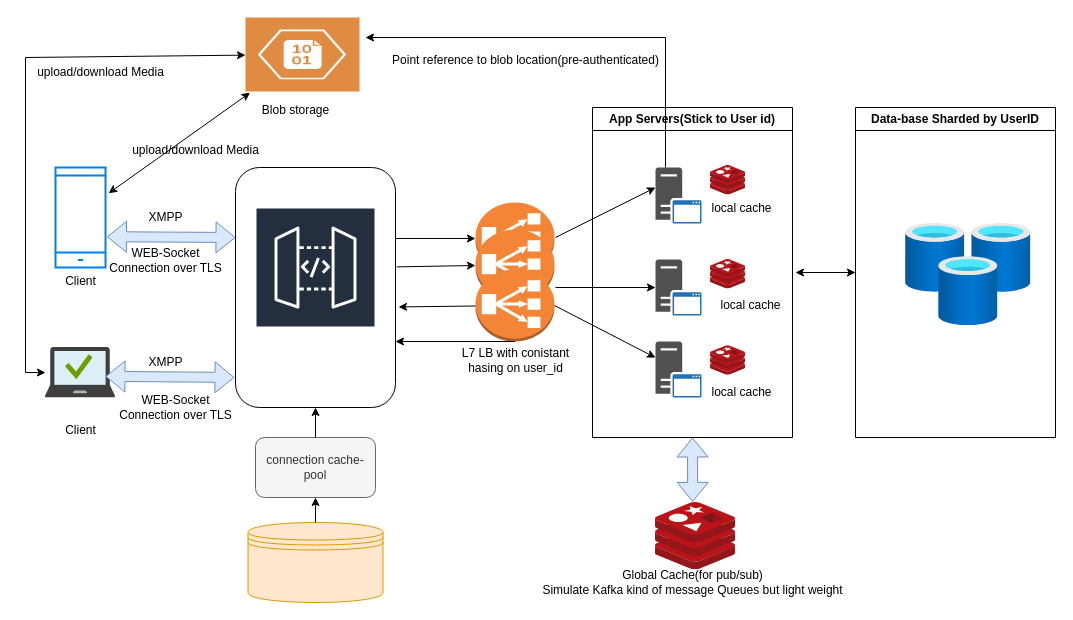
Some shapes in this 1073 by 620 pixel diagram are drawn without their labels. The shapes that lost their labels are listed below. From the top down, each one's centre as x and y in pixels, then its label:
(x=315, y=292): API Gateway With L4 LB(Optimised for TCP Connection)
(x=315, y=562): Session-id : Connection pool map
